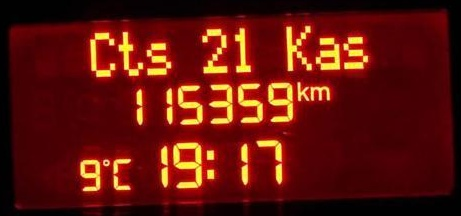1: (230, 26, 251, 73), (157, 144, 170, 189), (236, 141, 249, 185), (132, 85, 144, 127), (162, 86, 174, 125)
2: (199, 27, 229, 74)
3: (207, 82, 234, 125)
5: (235, 81, 264, 124), (175, 83, 204, 126)
7: (252, 137, 283, 186)
9: (173, 140, 203, 189), (266, 80, 294, 123), (77, 157, 102, 193)
X: (85, 29, 118, 80), (282, 22, 314, 72), (116, 29, 145, 79), (340, 34, 369, 71), (144, 39, 171, 77), (312, 35, 340, 71), (111, 157, 133, 191), (203, 148, 217, 181), (309, 85, 332, 101), (295, 80, 308, 102)
